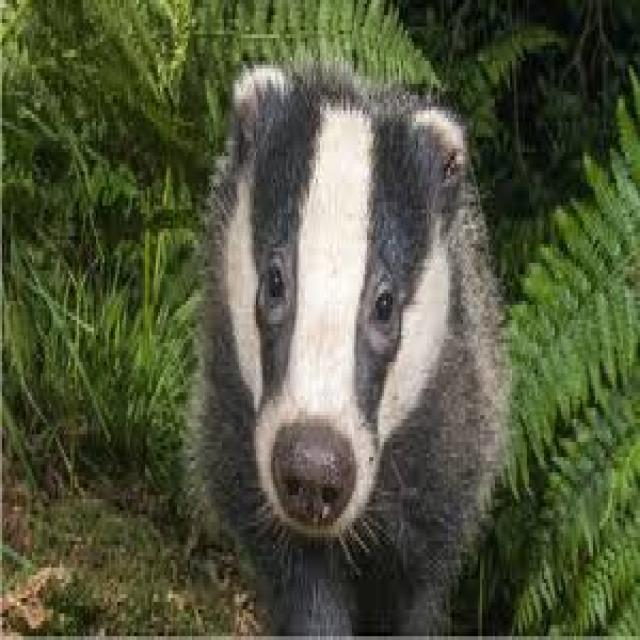Badger: (187, 46, 511, 632)
